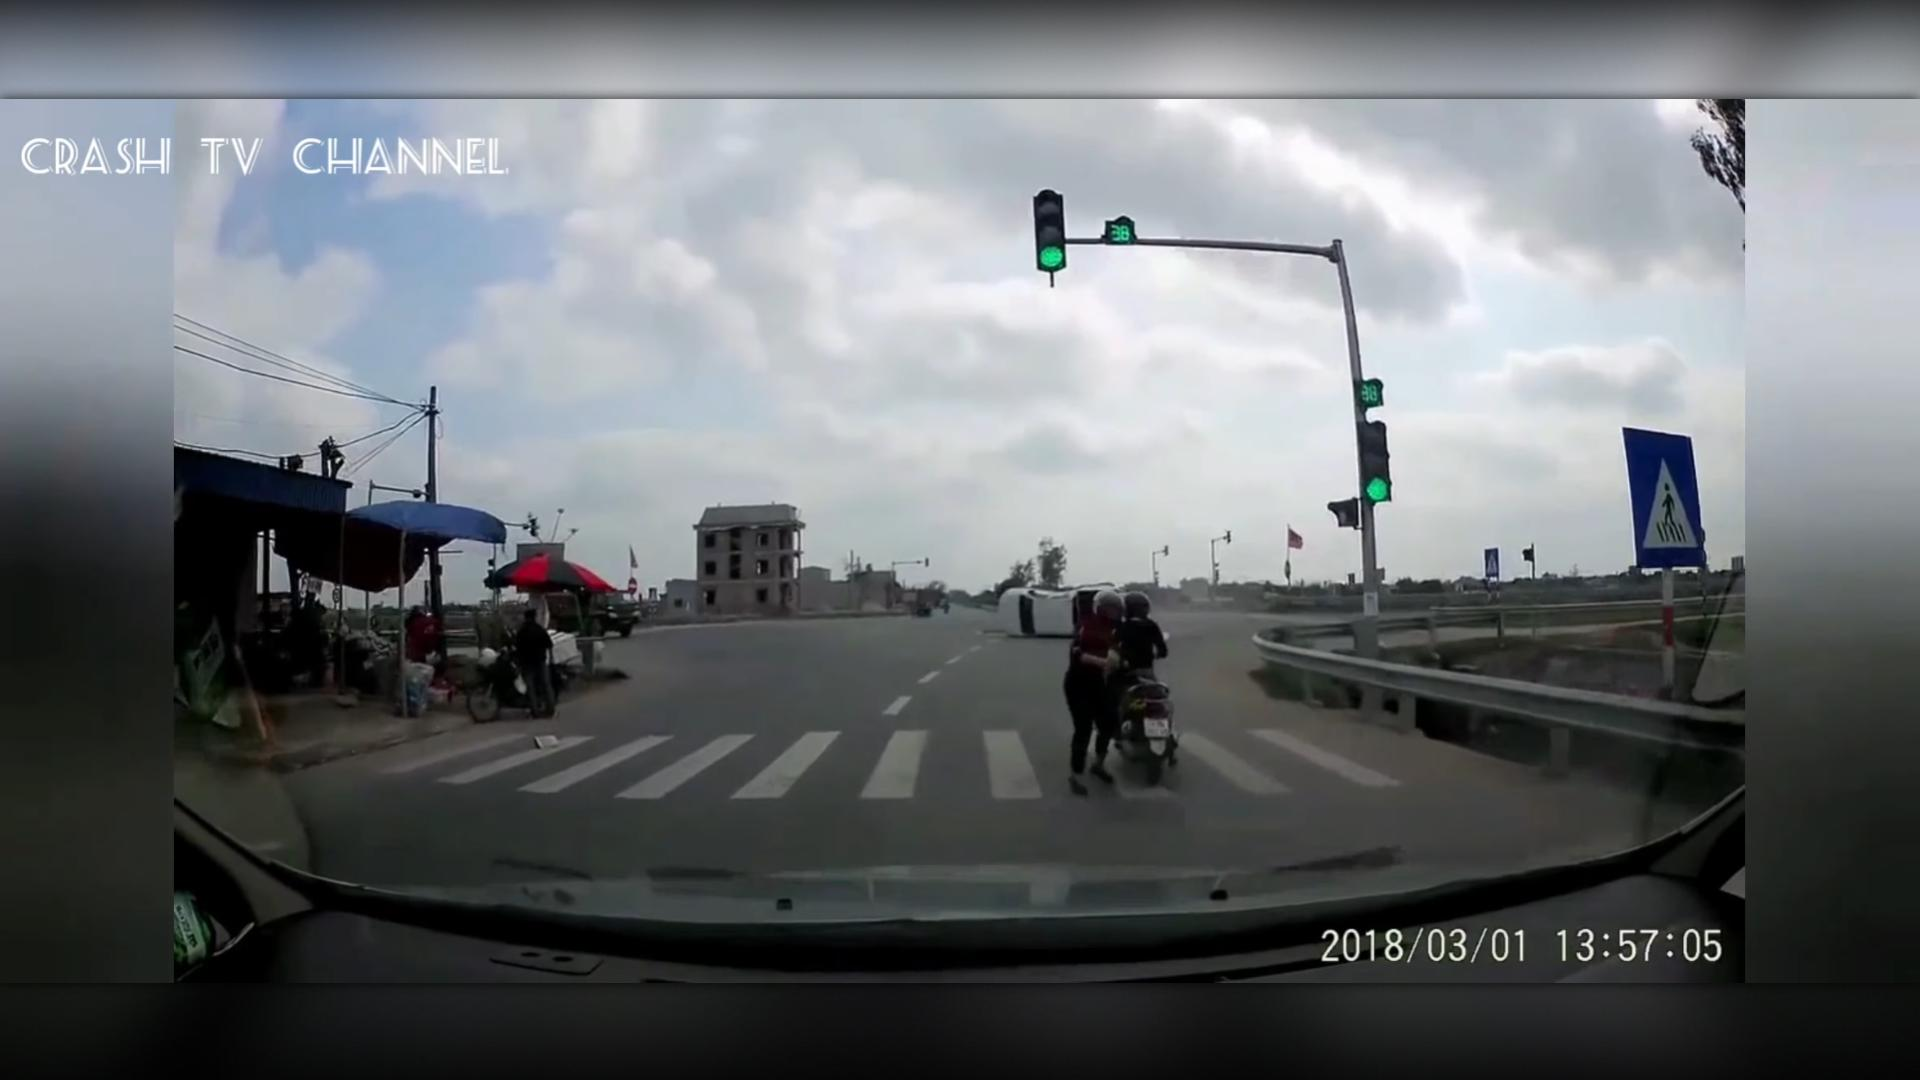accident: (973, 580, 1085, 641)
crosswalk: (426, 687, 1396, 811)
motorcycle: (1076, 583, 1170, 754)
